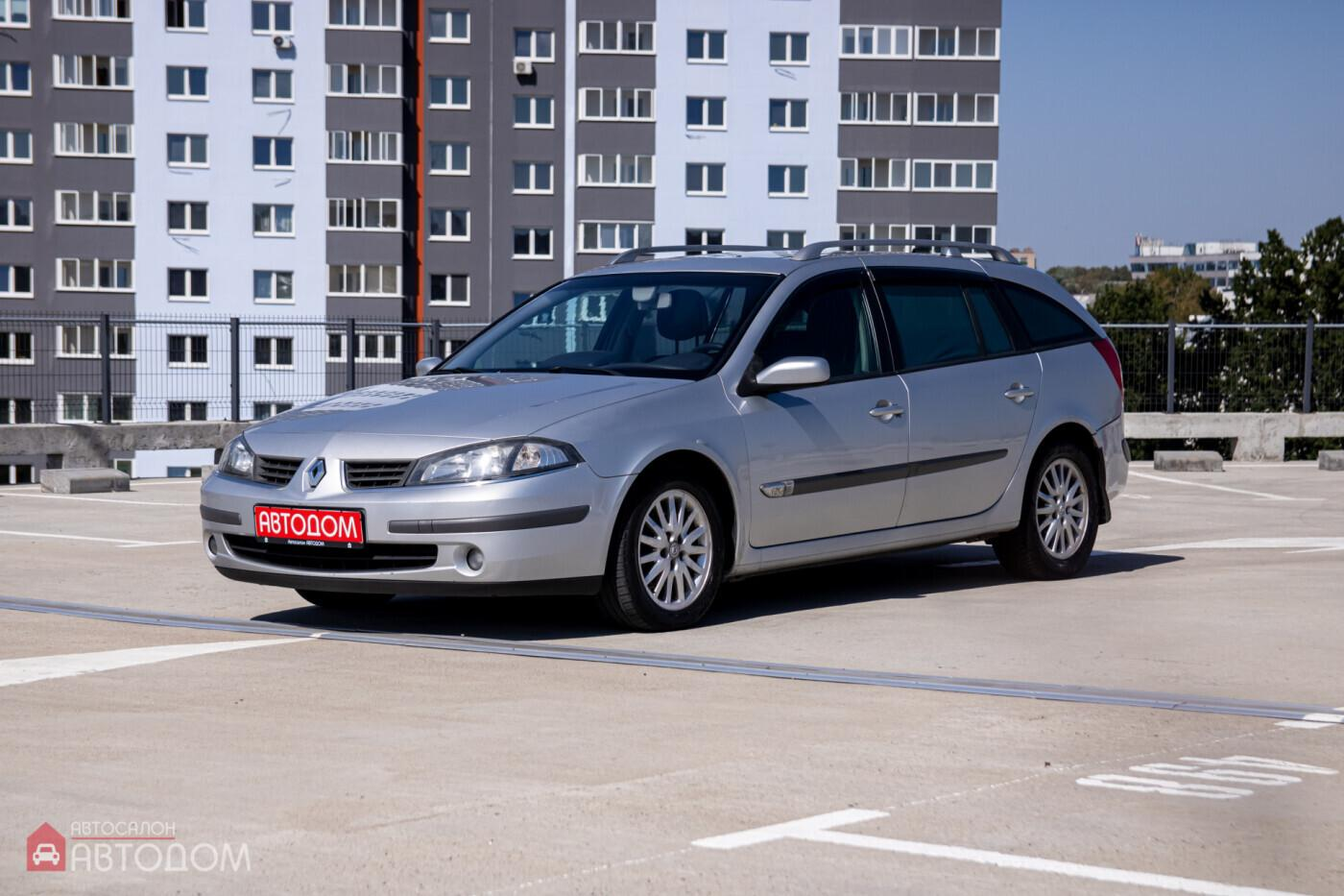Laguna_2005-2007: (196, 245, 1134, 653)
